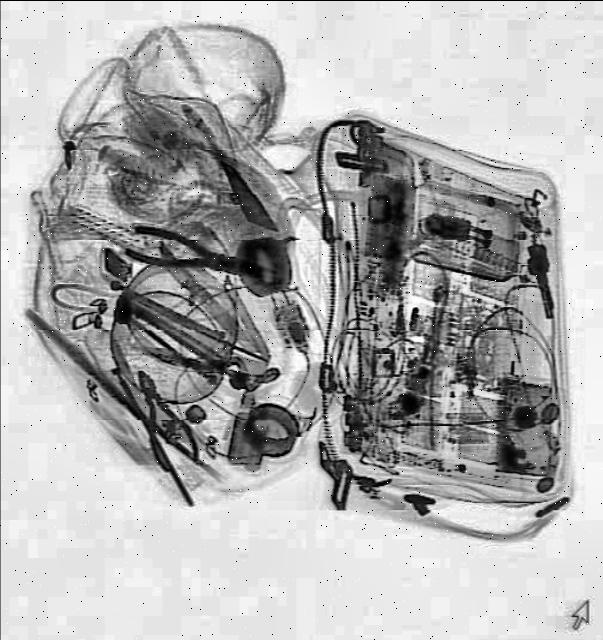Pliers: (120, 358, 206, 474), (124, 219, 256, 285)
